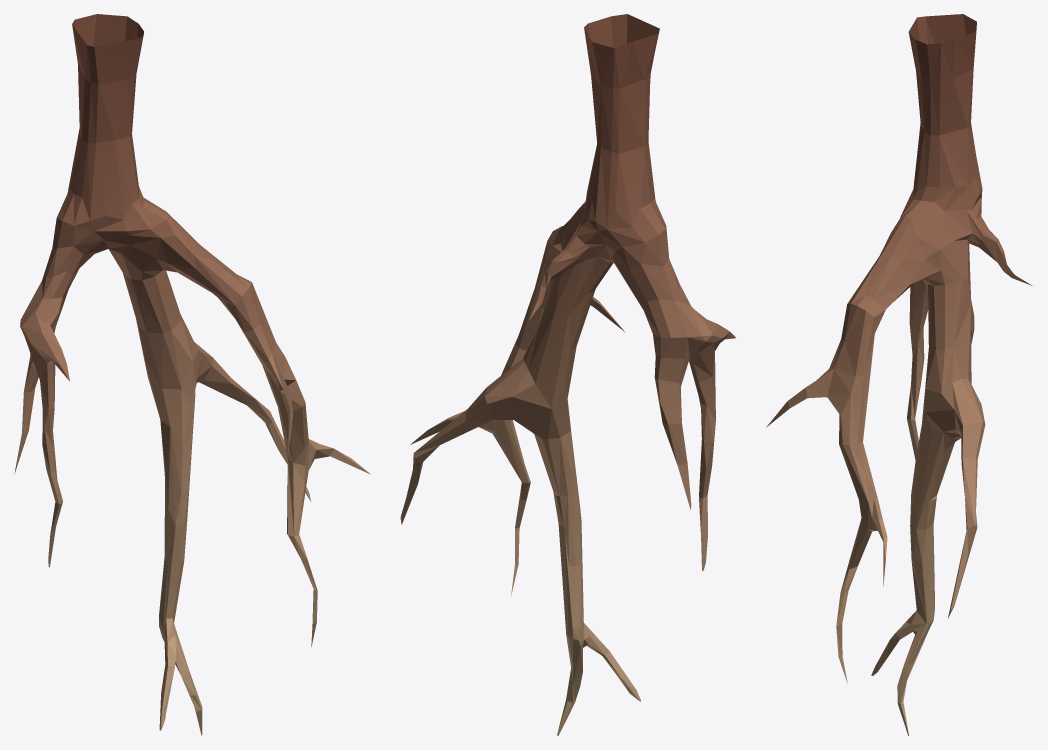
File: Cavern_Root-01.fbx
3 views of the same model, side by side, from view 1: azimuth 30°, elevation 25°; view 2: azimuth 150°, elevation 25°; view 3: azimuth 270°, elevation 25° (orthographic). The views are drawn at different scales.
Visible parts, largest first — view 1: Cavern_Root-01; view 2: Cavern_Root-01; view 3: Cavern_Root-01.
Part boxes in pixels (x1=…): Cavern_Root-01: x1=14, y1=14, x2=370, y2=735; Cavern_Root-01: x1=400, y1=14, x2=735, y2=735; Cavern_Root-01: x1=766, y1=14, x2=1032, y2=735.
Size of the model in its own units: 571 by 1214 by 437.
1 material, 1 textured.
